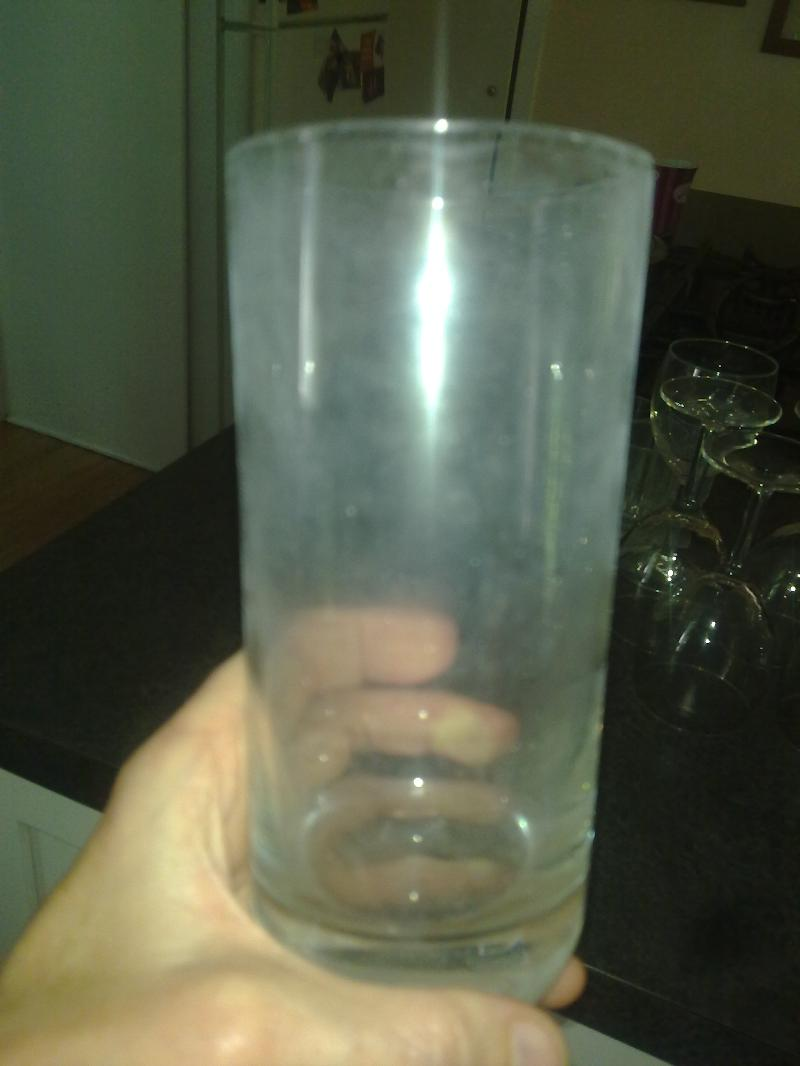glass: (211, 116, 662, 1019)
